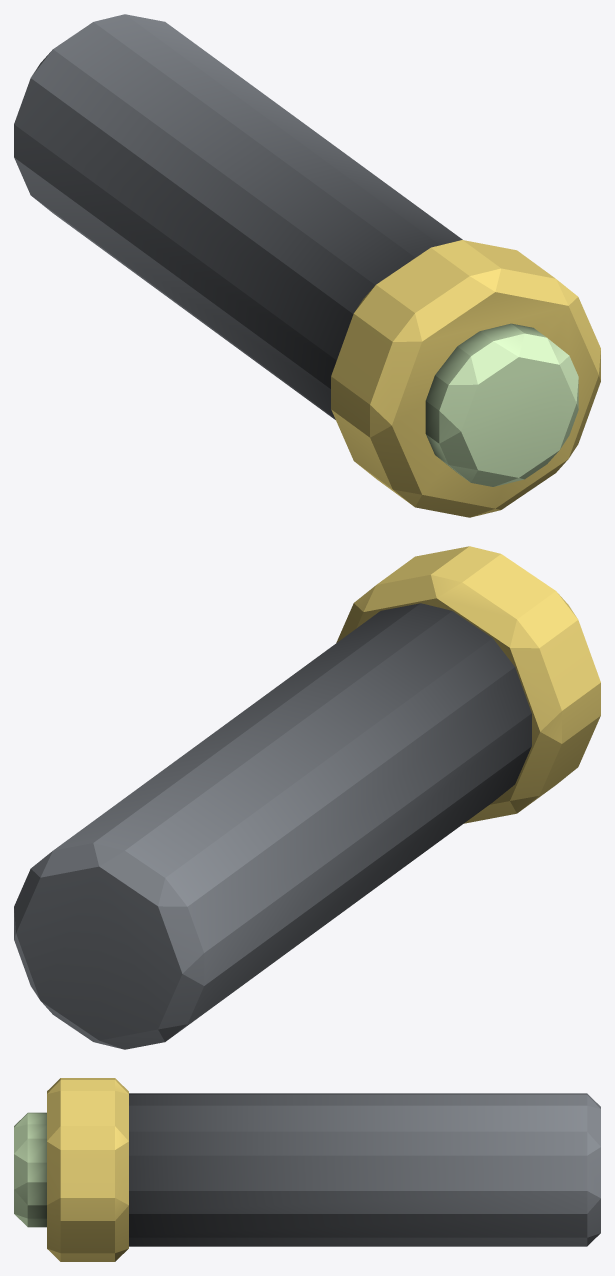
The model's file is AttLaserGreen.fbx.
3 views of the same model, one above another, from view 1: azimuth 30°, elevation 25°; view 2: azimuth 150°, elevation 25°; view 3: azimuth 270°, elevation 25° (orthographic). The views are drawn at different scales.
Parts seen in each view (by area): view 1: Body; view 2: Body; view 3: Body.
Part boxes in pixels (left/top/right/bottom): Body: left=14, top=14, right=600, bottom=517; Body: left=14, top=546, right=600, bottom=1049; Body: left=14, top=1078, right=600, bottom=1261.
Bounding box in the file's own units: 0.0454 × 0.0454 × 0.143.
